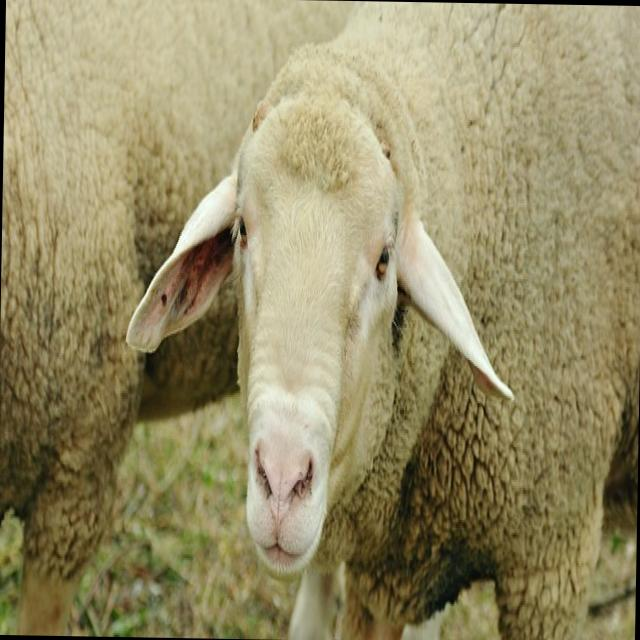animal: (124, 0, 640, 640)
